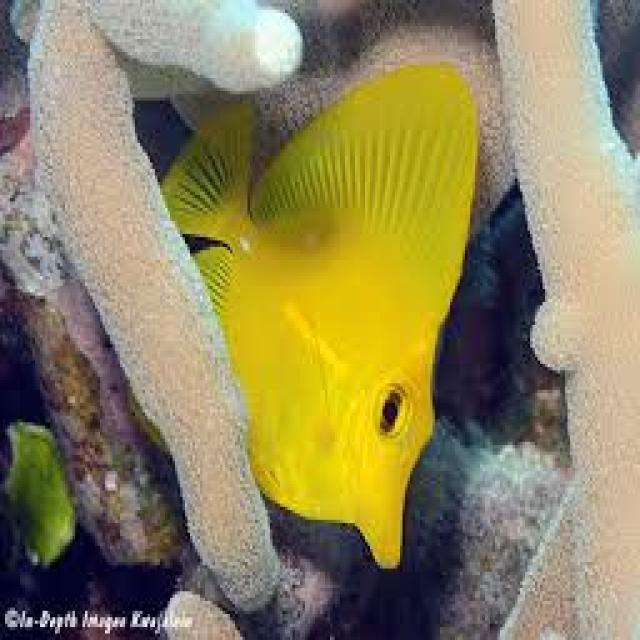YellowTang: (163, 75, 497, 566)
